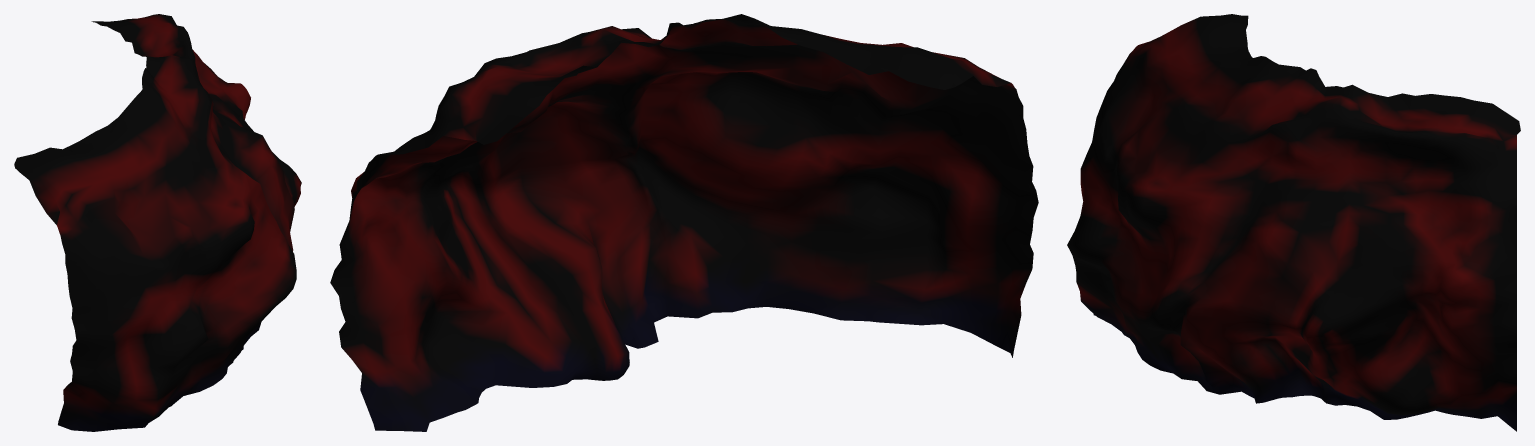
The model's file is SM_Cave_Wall_CIn_R_10x10.FBX.
3 views of the same model, side by side, from view 1: azimuth 30°, elevation 25°; view 2: azimuth 150°, elevation 25°; view 3: azimuth 270°, elevation 25° (orthographic). The views are drawn at different scales.
Parts seen in each view (by area): view 1: Cave_Wall_CIn_R_10x10; view 2: Cave_Wall_CIn_R_10x10; view 3: Cave_Wall_CIn_R_10x10.
Part boxes in pixels (x1,y1,x2,y2): Cave_Wall_CIn_R_10x10: [14, 14, 301, 431]; Cave_Wall_CIn_R_10x10: [330, 14, 1038, 431]; Cave_Wall_CIn_R_10x10: [1067, 14, 1520, 431].
Bounding box in the file's own units: 875 × 675 × 914.
